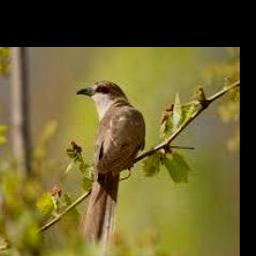Cuckoo: (69, 80, 146, 256)
